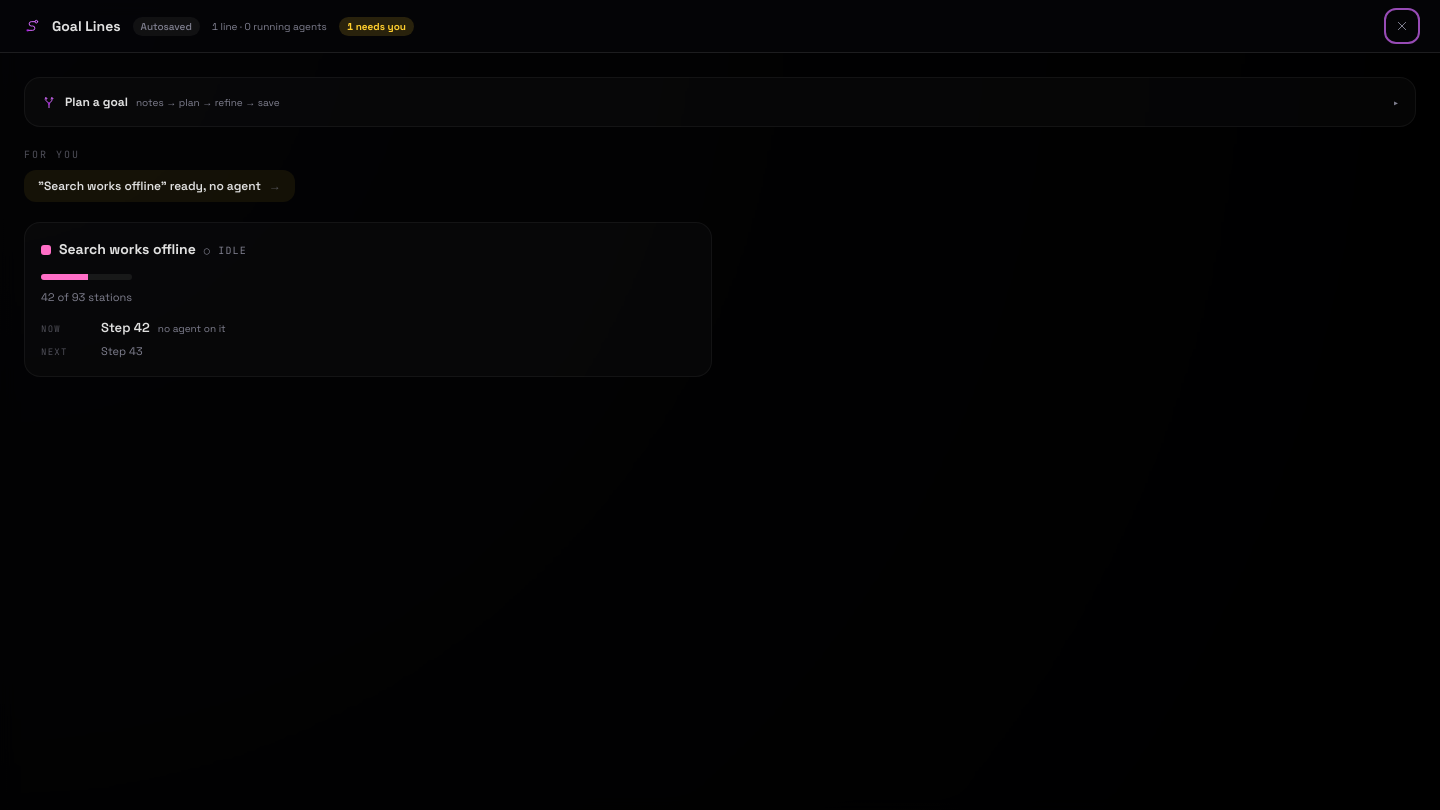
Scenario: station interactions on the board › folds a long line and opens the folded past on request
The width and height of the screenshot is (1440, 810).
Click the 4th button.
click(127, 249)  # box [25,223,711,376]
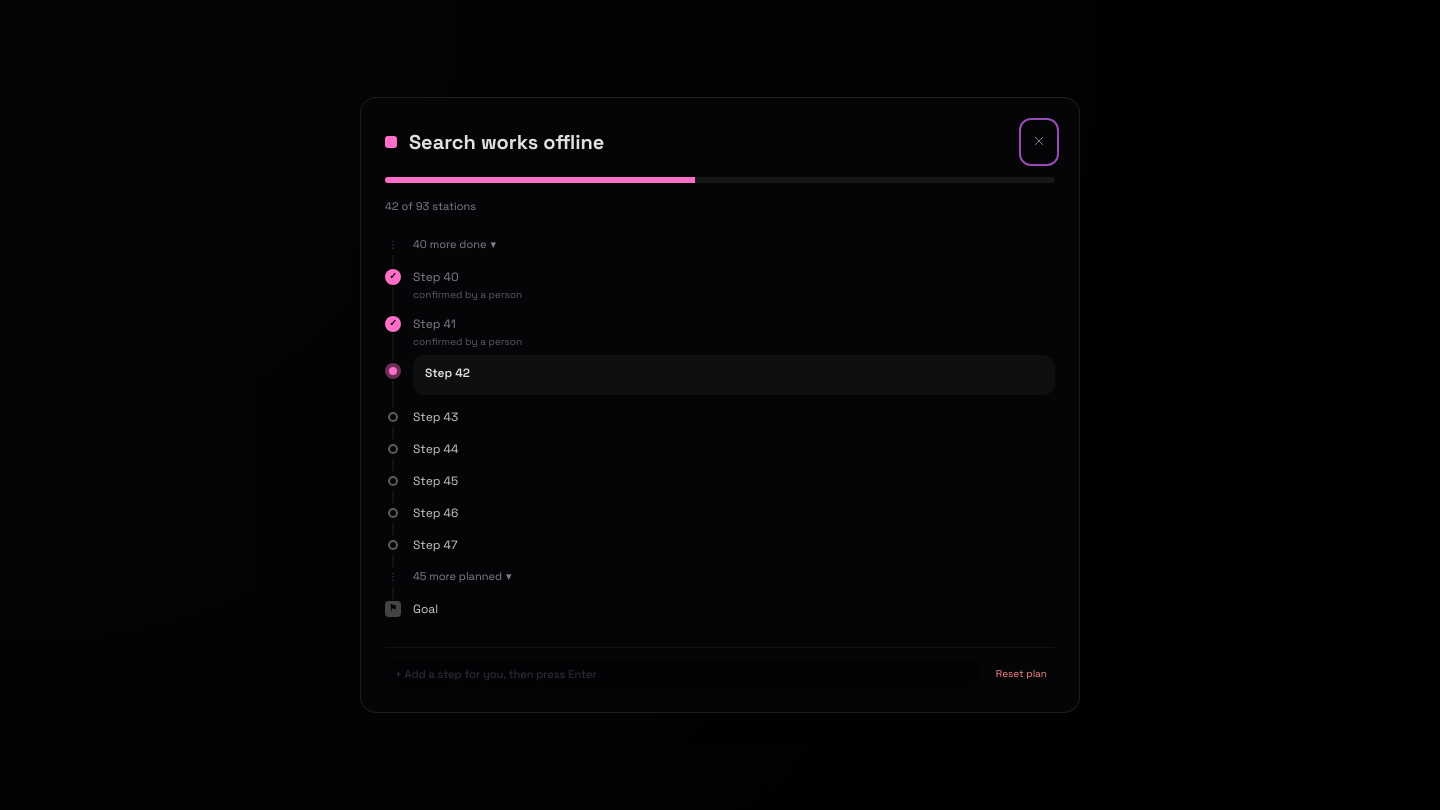
Expected: the button with test id "timeline-fold-done" shows "40 more done"
Expected: the button with test id "timeline-fold-later" shows "45 more planned", [413,566,512,586]
Click the button with test id "timeline-fold-done".
click(454, 244)  # box [413,234,496,254]
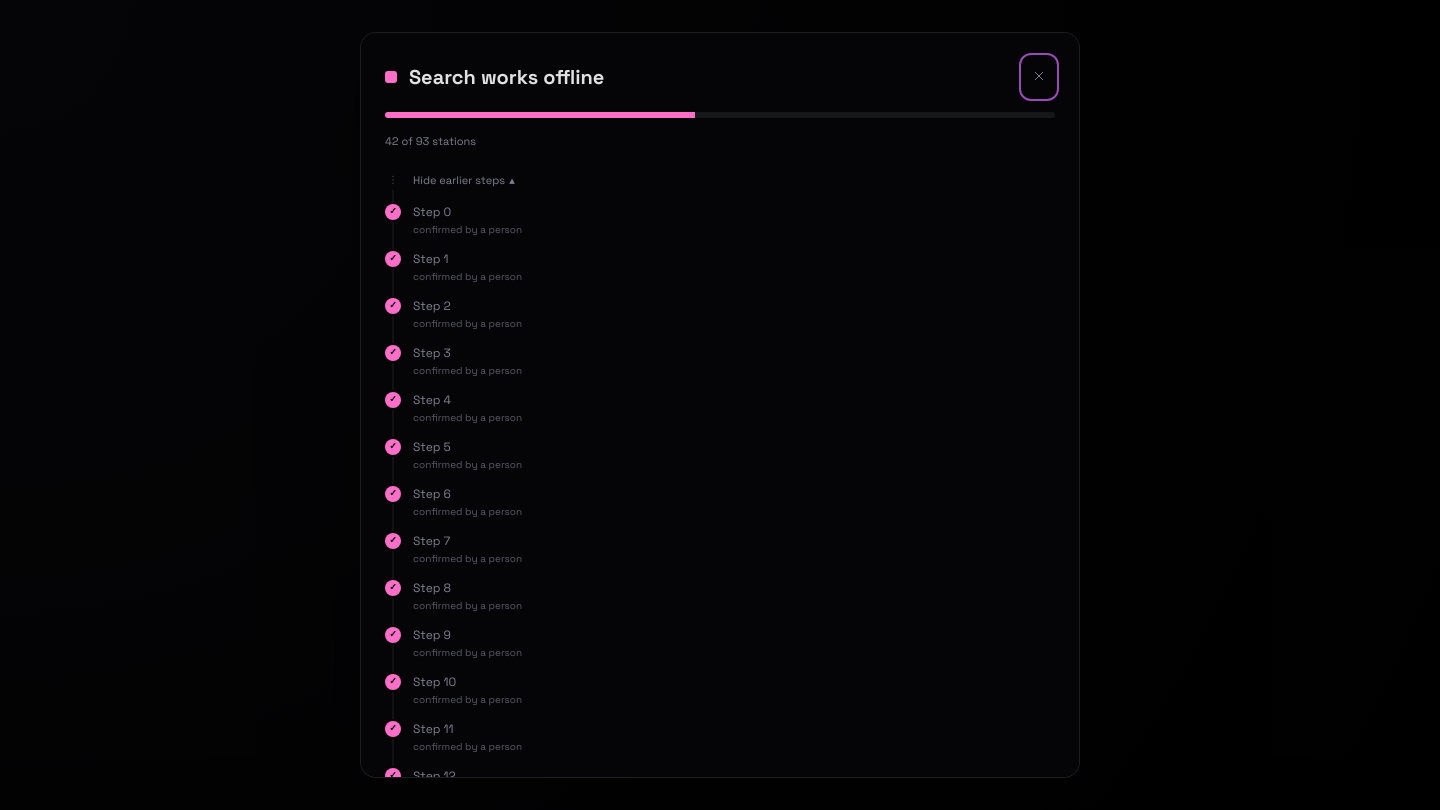
Expected: the list item with test id "station-row-st-0" is shown, [385,202,1055,249]
